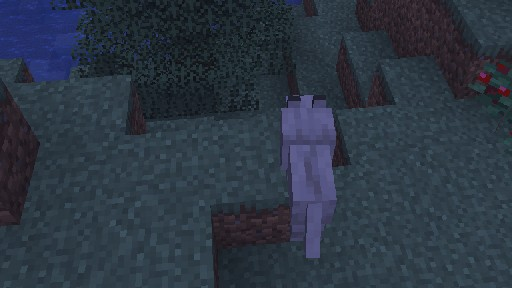wolf: (278, 94, 337, 258)
